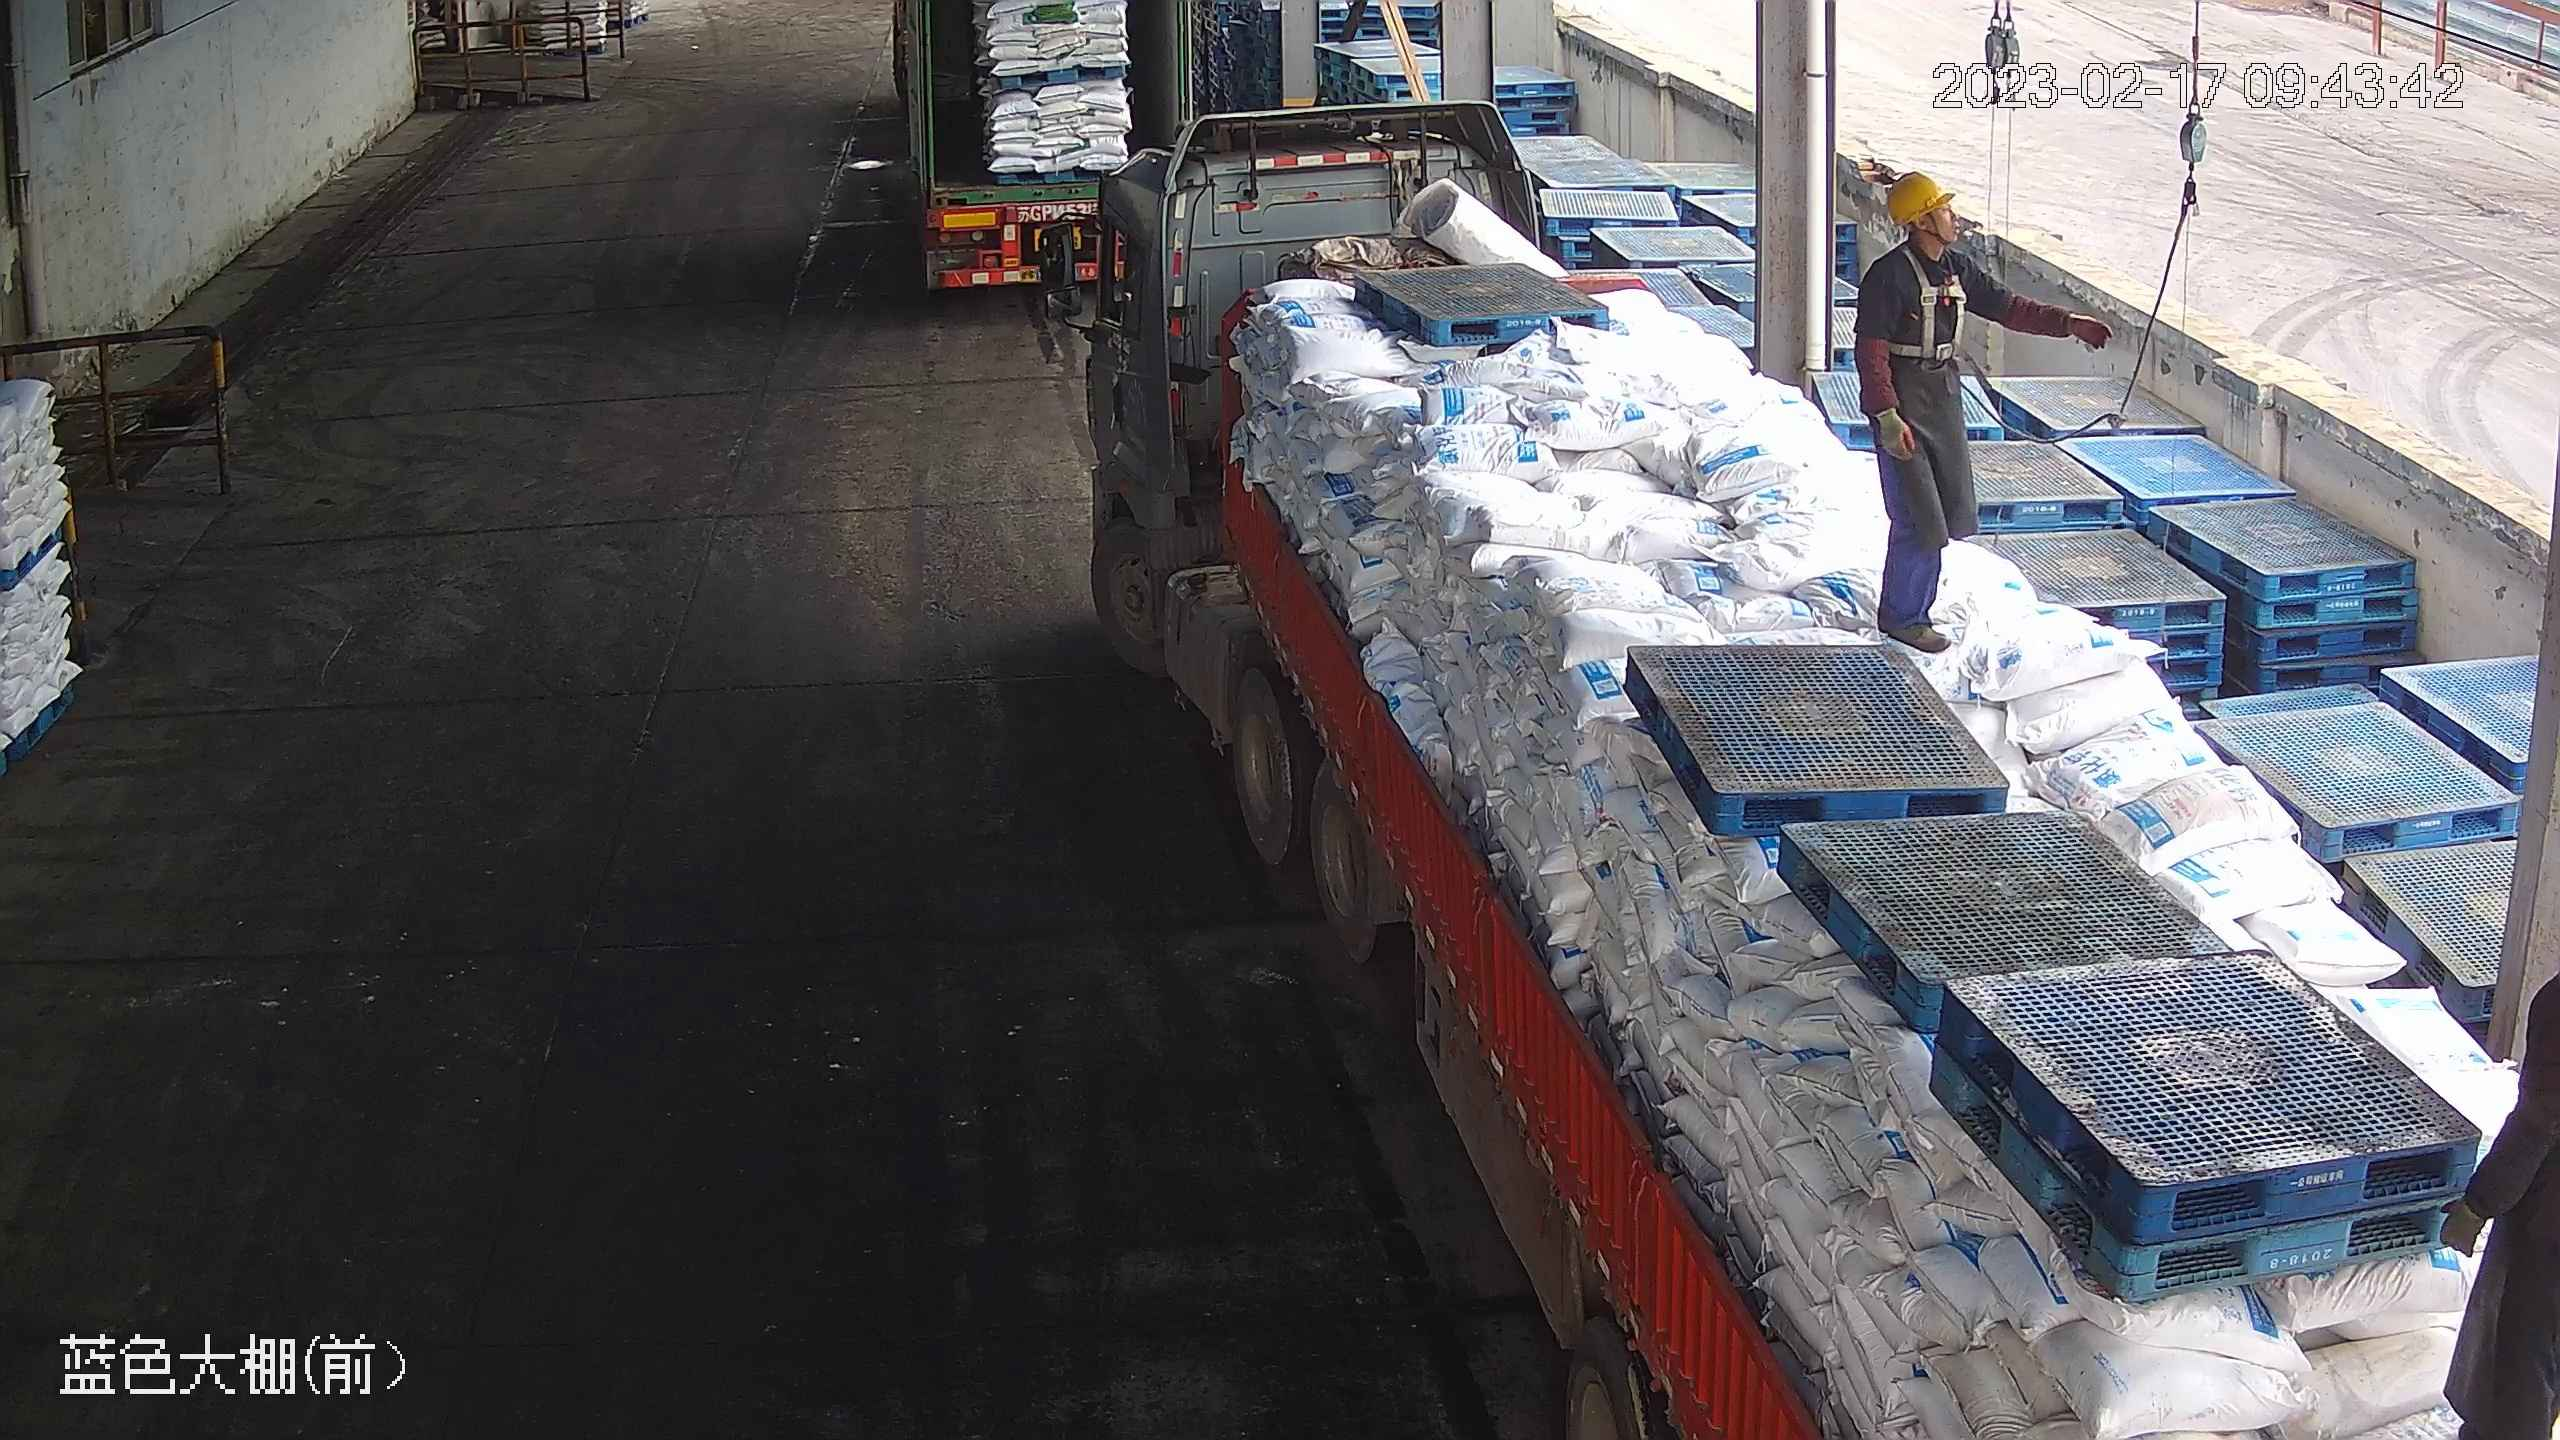belt: (1887, 242, 1972, 365)
head: (1862, 169, 1982, 309)
helmet: (1884, 168, 1950, 223)
people: (1855, 166, 2111, 654)
truck: (1104, 88, 2560, 1440), (883, 3, 1216, 308)
